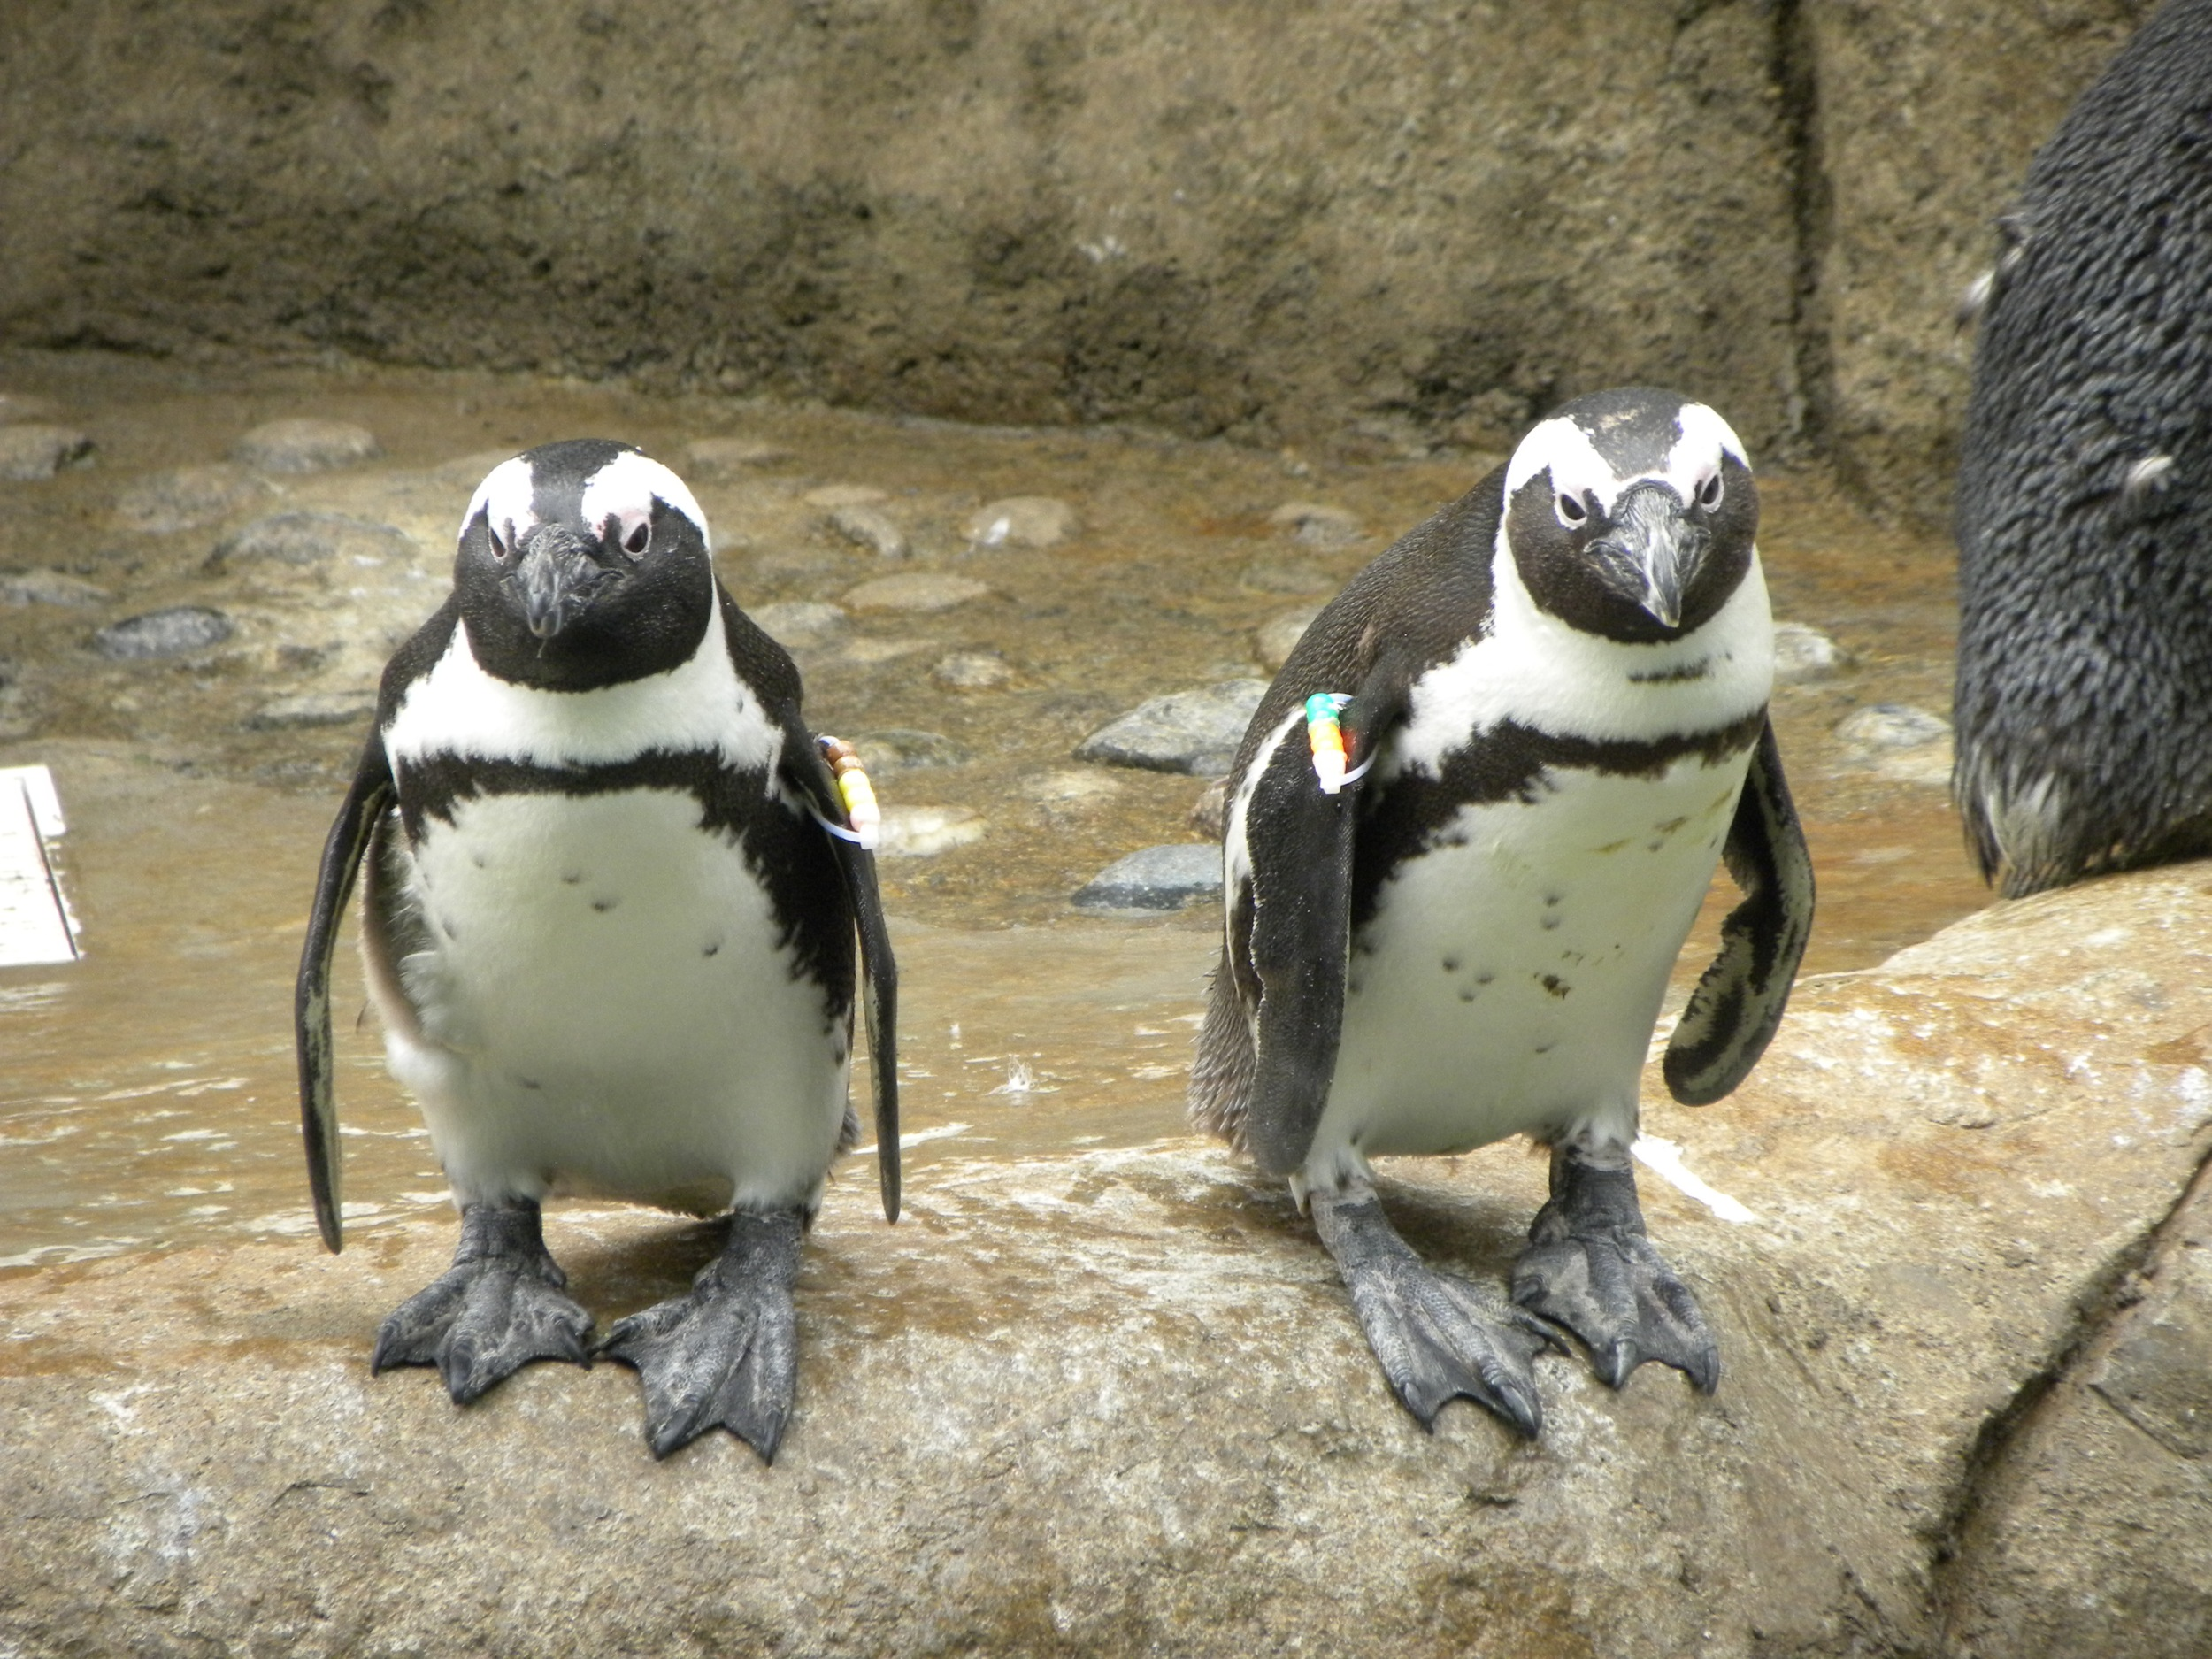penguin: (1150, 382, 1858, 1464), (347, 415, 927, 1462)
